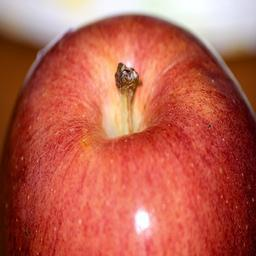apple: (0, 13, 256, 252)
